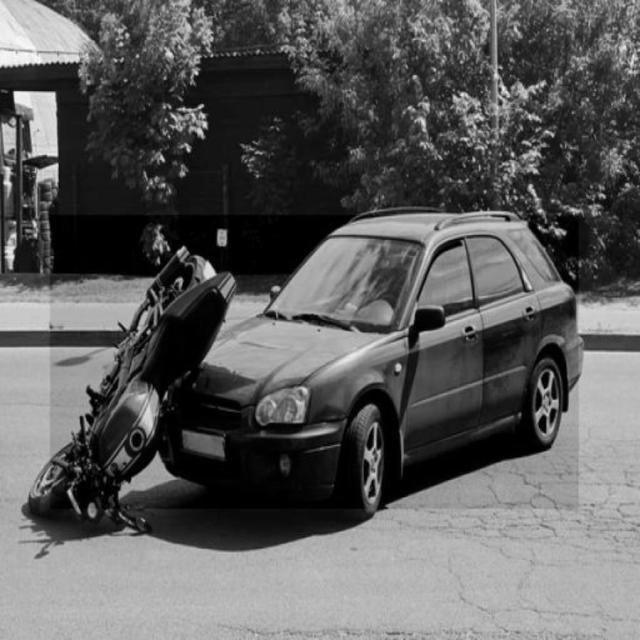accident: (50, 215, 578, 509)
